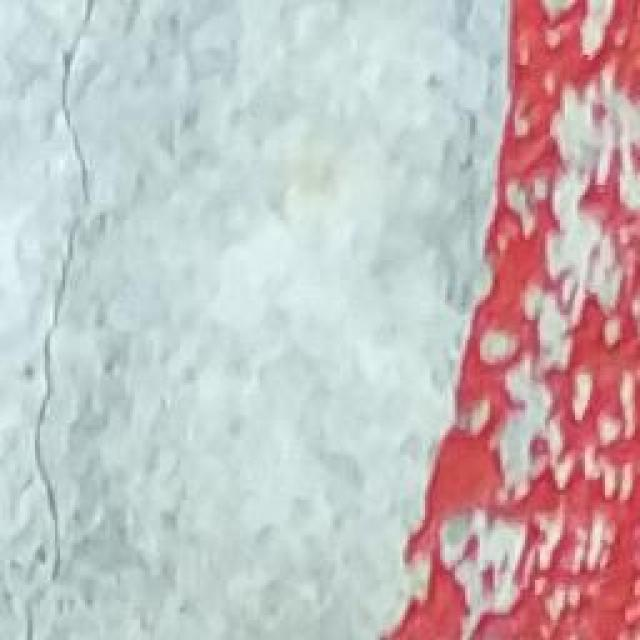Longitudinal: (37, 0, 94, 640)
